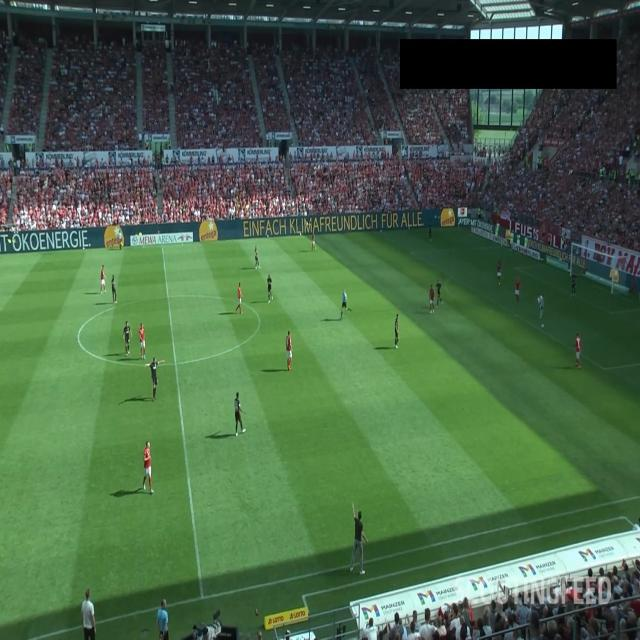ball: (541, 323, 544, 328)
